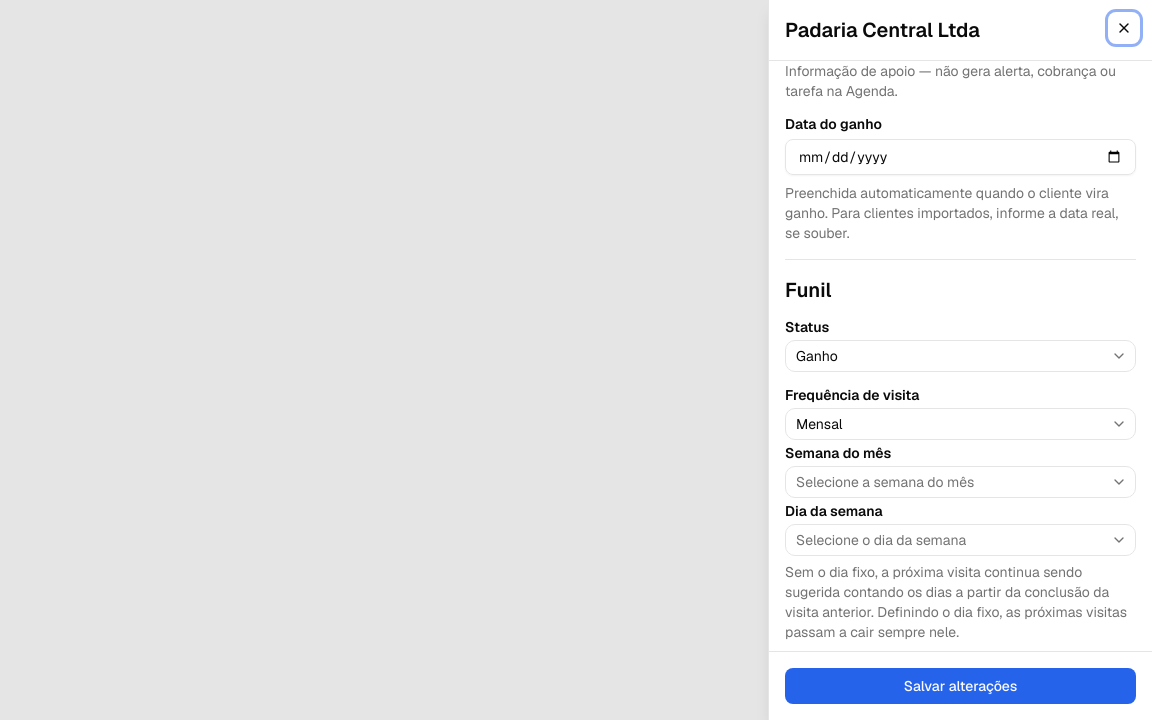
it: ClienteDetailSheet — opção Encerrado (Fase 29, D-01/D-04/D-05/D-06) › abre-dialogo: com cliente ganho, escolher Encerrado abre o diálogo 'Marcar Padaria Central Ltda como encerrado?'
(page scrolled)
Step 1. Click the dropdown named "Status" → (817, 356), box [785,340,1136,372]
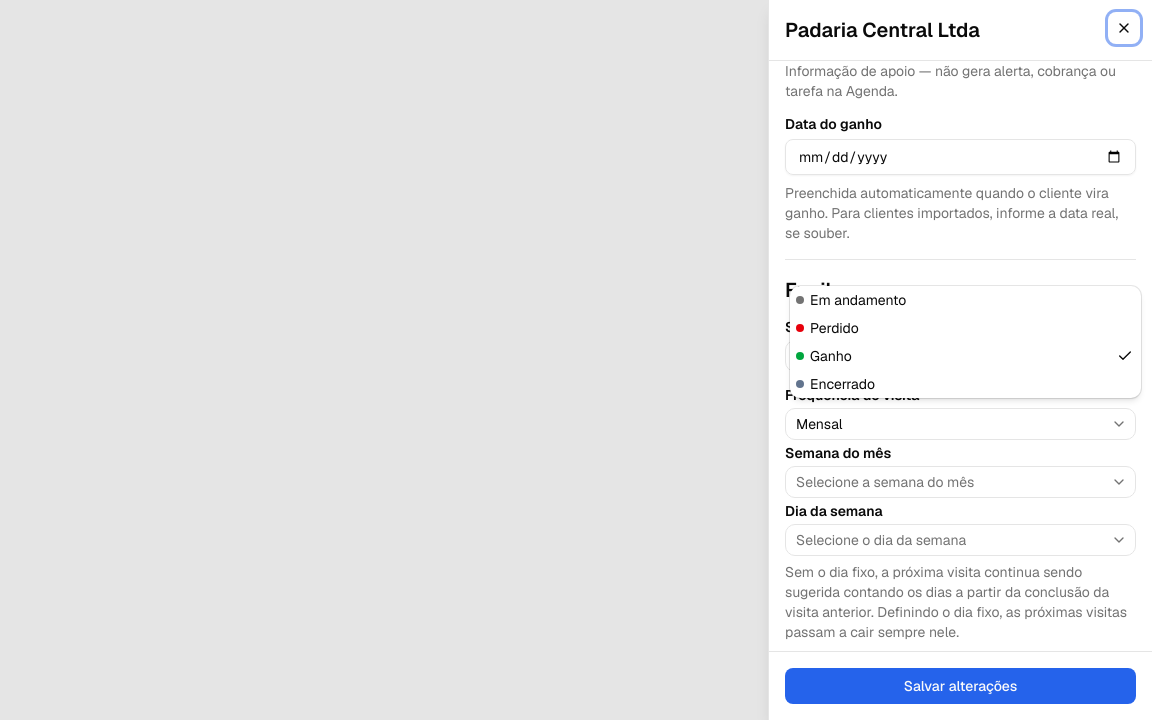
Step 2. Click the option "Encerrado" → (836, 384), box [796,375,875,393]
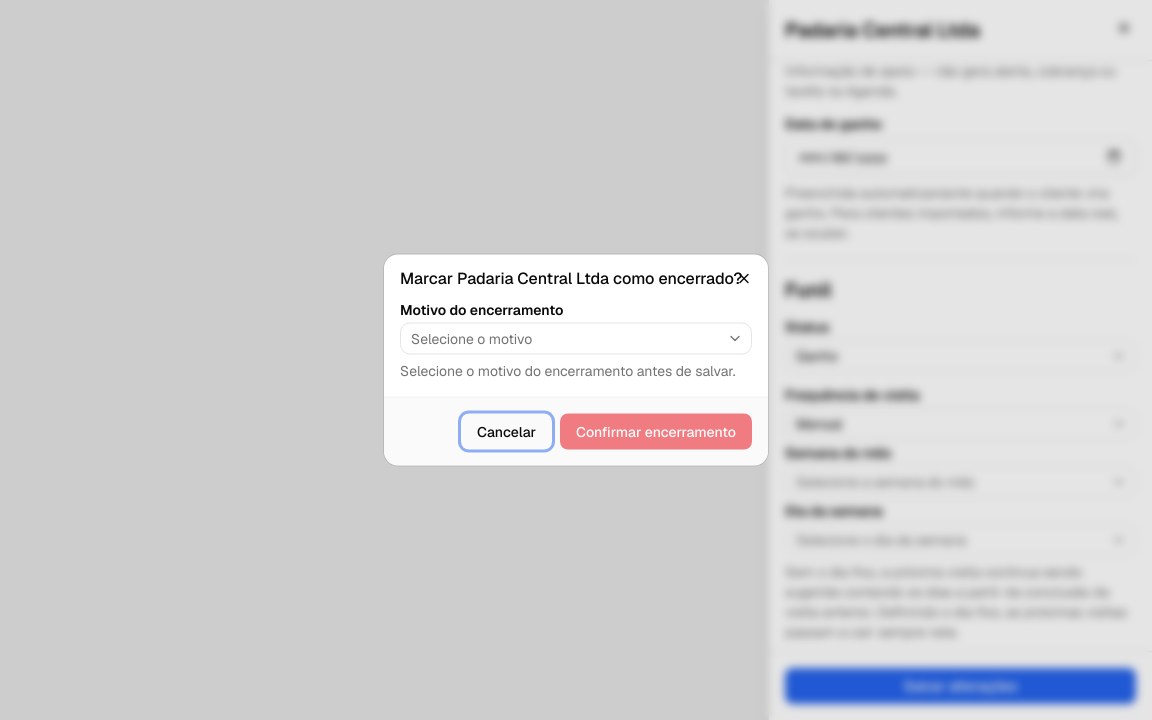
Now the heading "Marcar Padaria Central Ltda como encerrado?" is shown, box [400,270,752,286]
